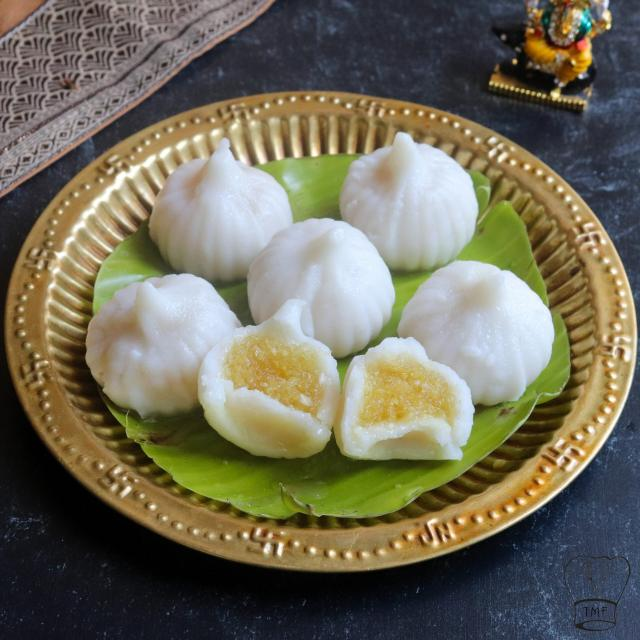poorna kolukattai: (54, 124, 572, 504)
